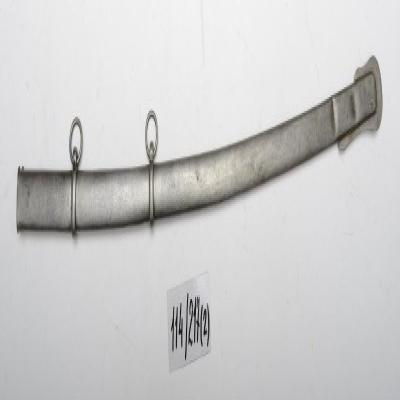weapon: (16, 55, 384, 238)
